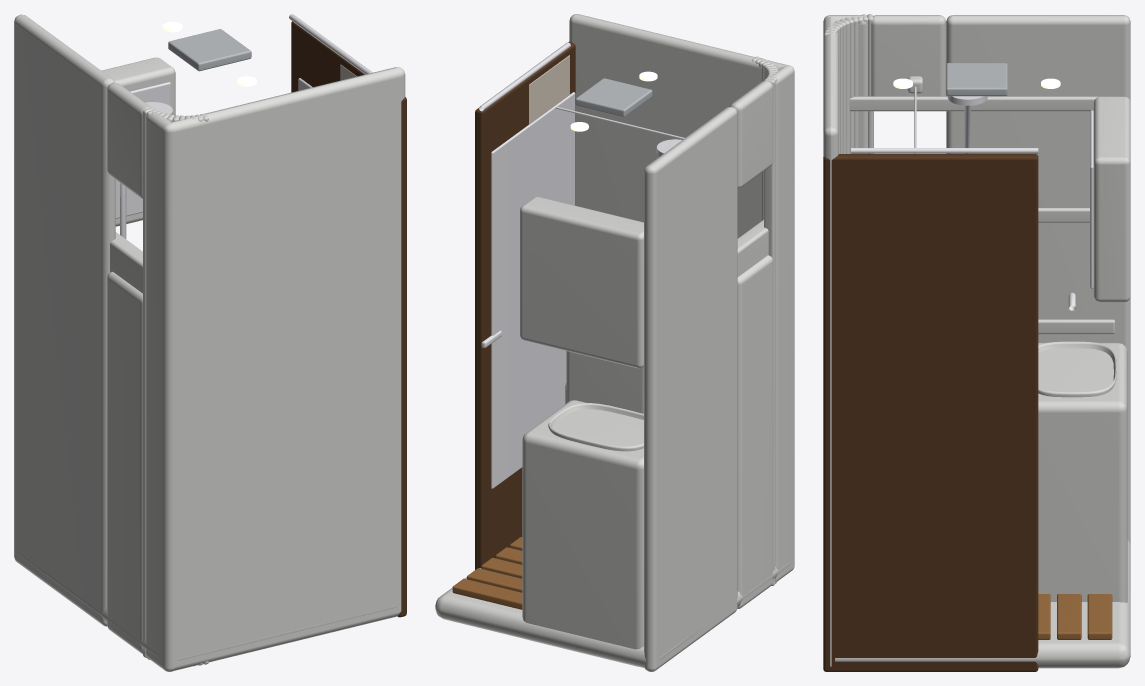
Rendered from washroom.glb.
The picture shows the model from 3 angles, left to right: view 1: azimuth 30°, elevation 25°; view 2: azimuth 150°, elevation 25°; view 3: azimuth 270°, elevation 25°; orthographic projection. The views are drawn at different scales.
Visible parts, largest first — view 1: washroom_pod, washroom_details; view 2: washroom_pod, washroom_details; view 3: washroom_details, washroom_pod.
Boxes of the visible parts, bbox=[...] form: washroom_pod: bbox=[14, 14, 405, 671]; washroom_details: bbox=[291, 21, 406, 617]; washroom_pod: bbox=[435, 14, 794, 671]; washroom_details: bbox=[475, 41, 575, 569]; washroom_details: bbox=[823, 154, 1038, 671]; washroom_pod: bbox=[823, 14, 1130, 668].
Size of the model in its own units: 0.9 by 1.95 by 1.
